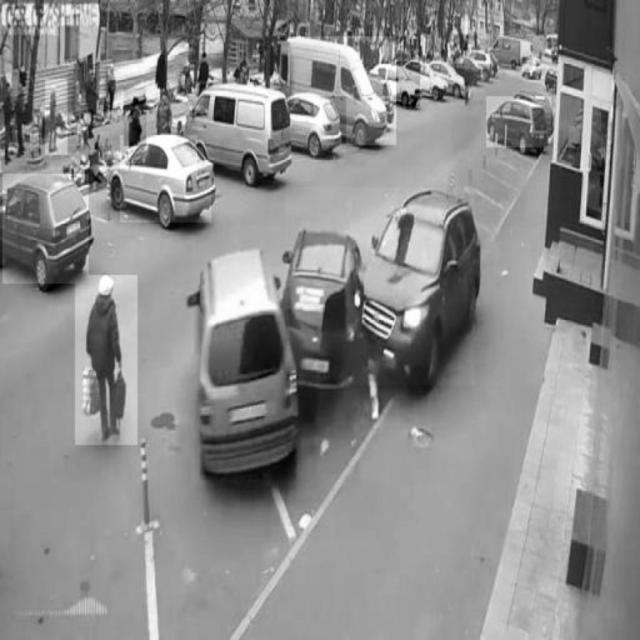accident: (191, 225, 351, 486), (285, 188, 475, 385)
person: (75, 275, 137, 445), (45, 79, 67, 155), (124, 87, 146, 145), (193, 45, 211, 97)
vehicle: (288, 37, 396, 145), (3, 174, 89, 284), (198, 86, 290, 178), (120, 135, 211, 223), (288, 96, 346, 160), (486, 96, 550, 147), (376, 62, 421, 107), (429, 60, 464, 102), (491, 37, 533, 71)
